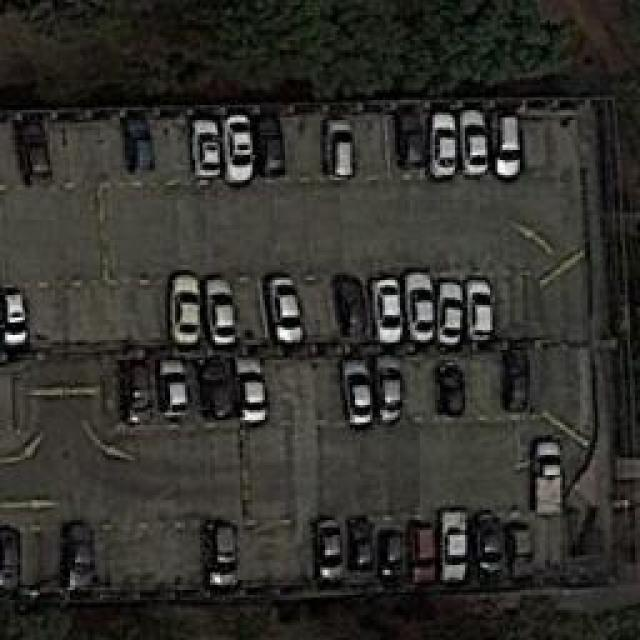Parking: (2, 90, 640, 610)
